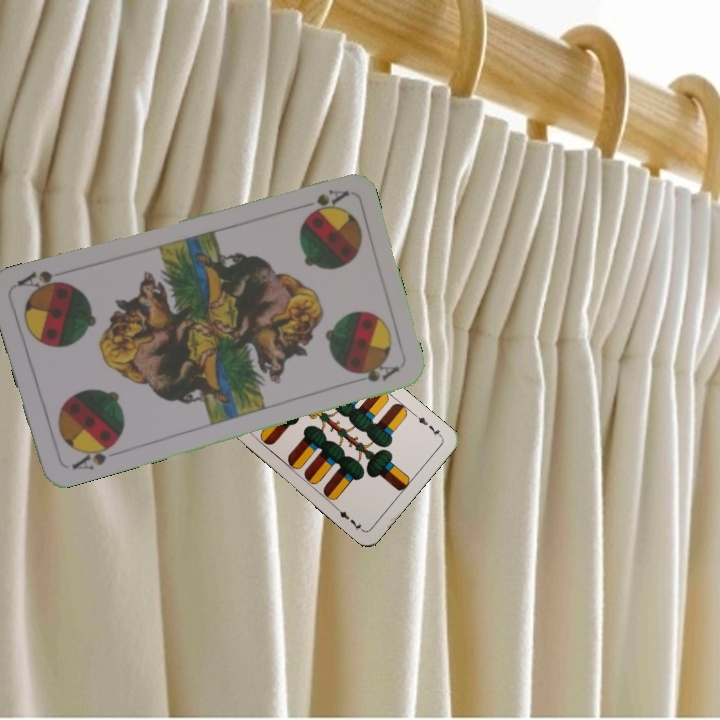E7: (410, 409, 444, 440)
SA: (292, 185, 351, 217), (68, 437, 119, 473)
